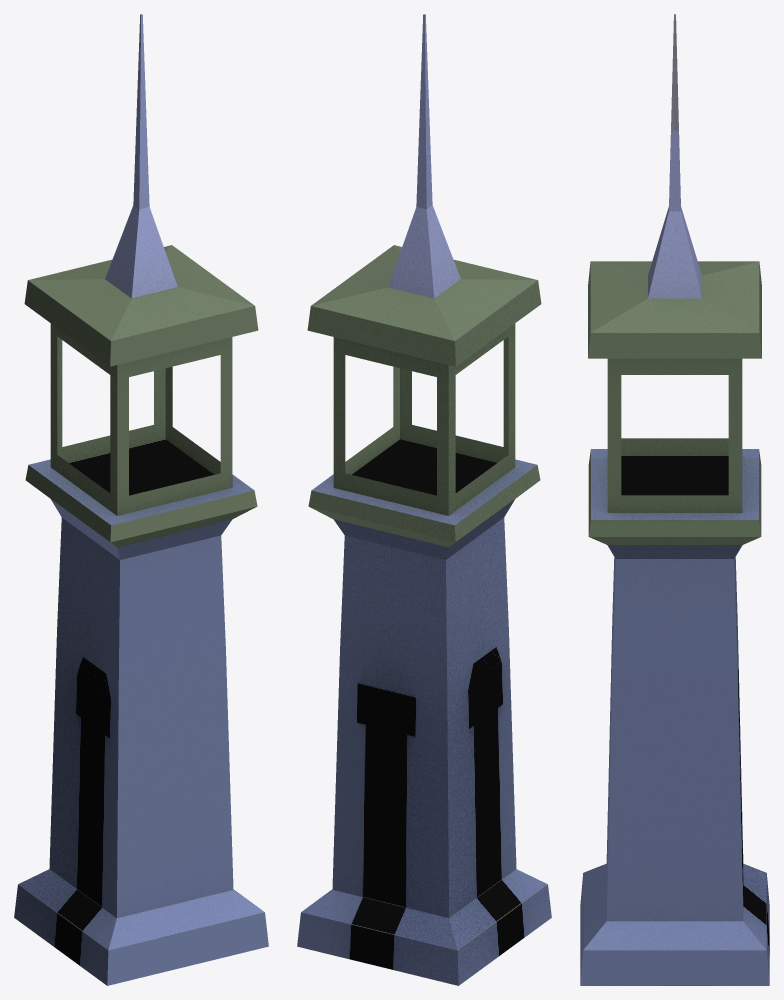
Rendered from tower.obj.
3 views of the same model, side by side, from view 1: azimuth 30°, elevation 25°; view 2: azimuth 150°, elevation 25°; view 3: azimuth 270°, elevation 25° (orthographic).
Parts seen in each view (by area): view 1: Plane.001; view 2: Plane.001; view 3: Plane.001.
Boxes of the visible parts, x1,y1,x2,y2 form: Plane.001: [14, 14, 268, 985]; Plane.001: [297, 14, 551, 985]; Plane.001: [580, 14, 769, 985].
Size of the model in its own units: 0.741 by 4.02 by 0.741.
Materials: 3 (3 with a texture image).
